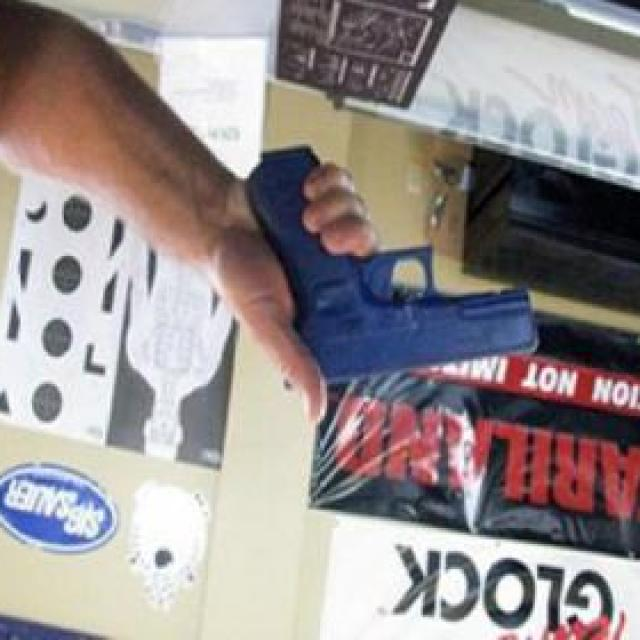pistol: (250, 145, 544, 377)
